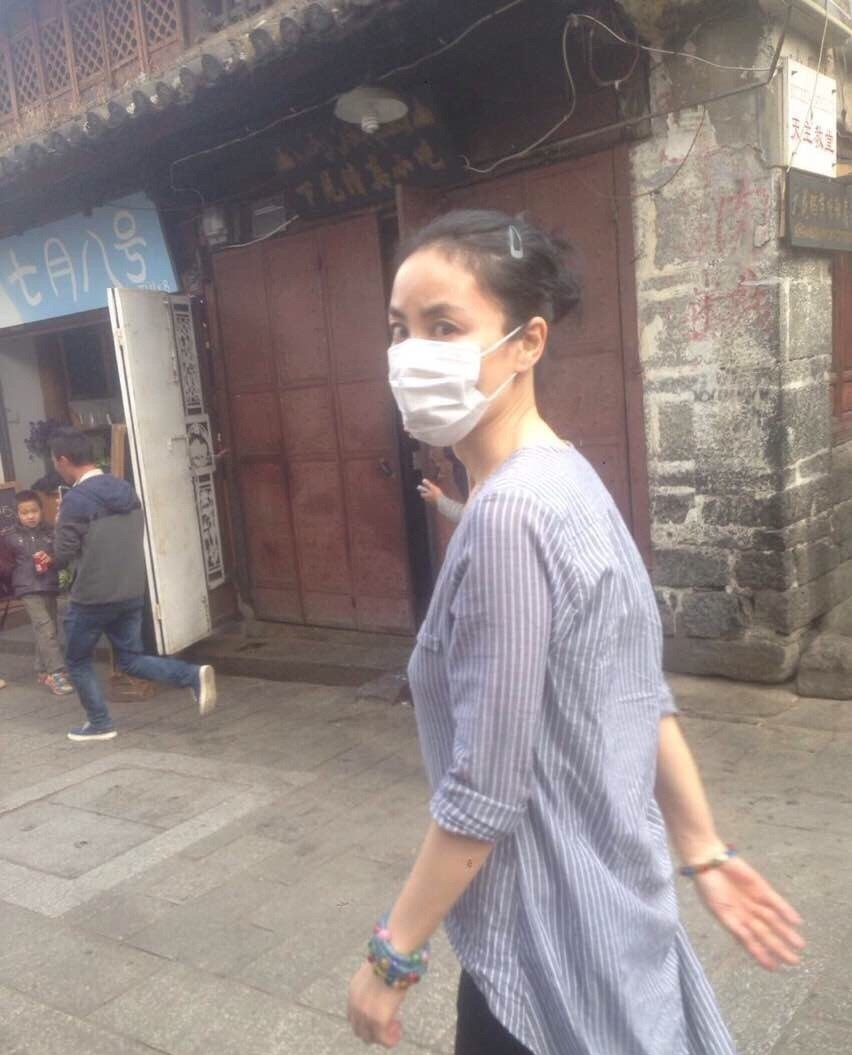face_mask: (386, 253, 493, 448)
